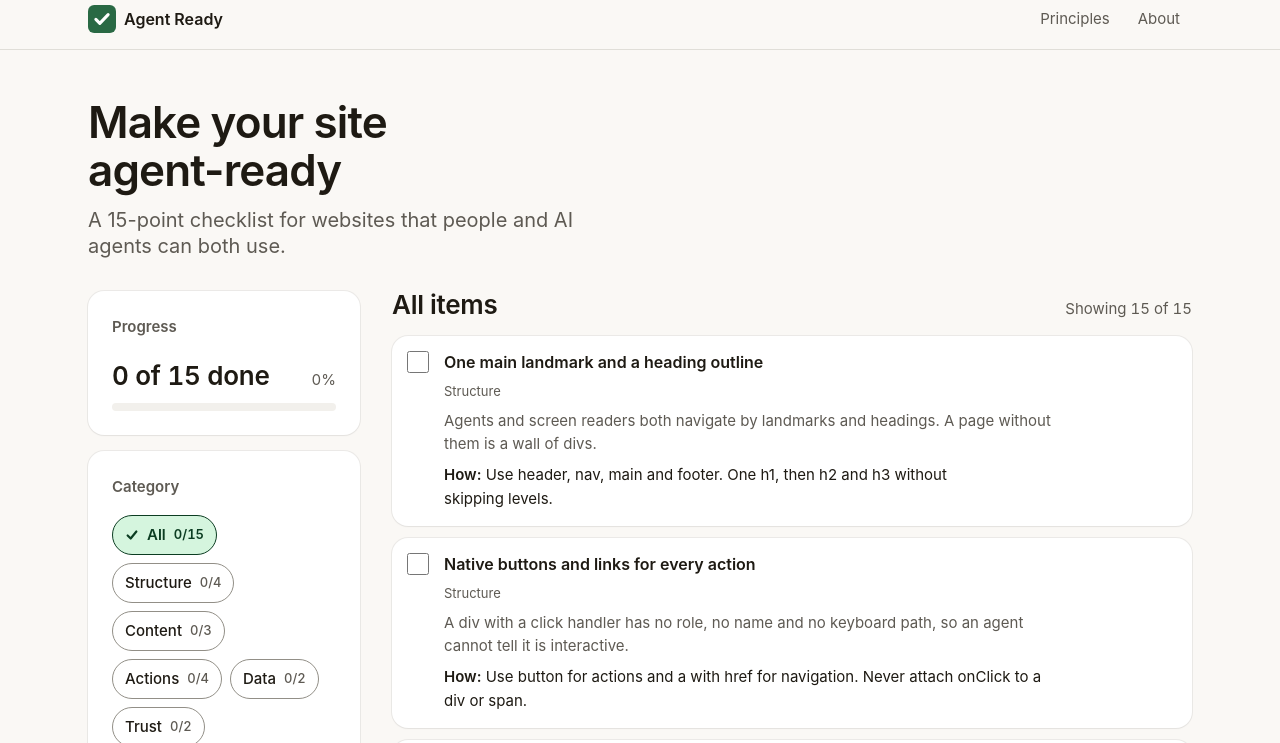
Test case: App › asks before clearing progress, then clears
What coordinates should you click on to do the following:
click the checkbox labelled "One main landmark and a heading outline"
I would click on:
 (418, 362)
Its box is [407,351,429,373].
(page scrolled)
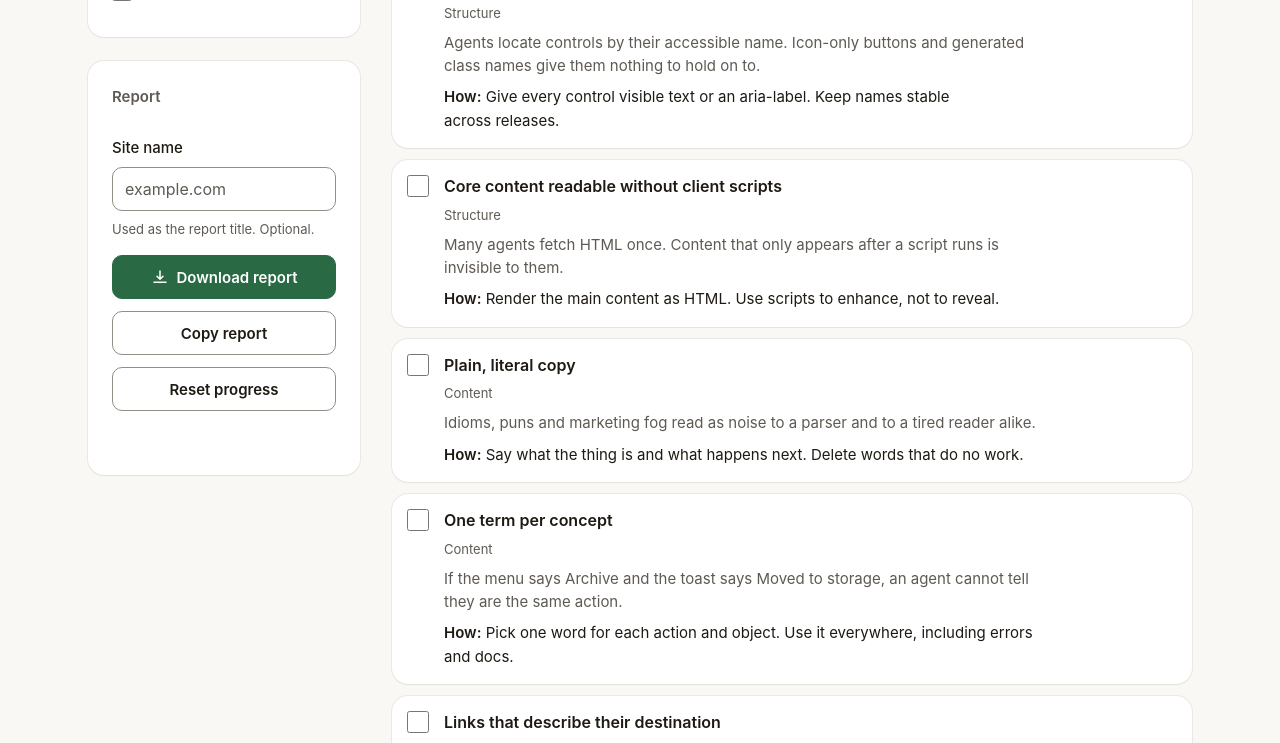
Check: the button "Reset progress" is enabled
What coordinates should you click on to do the following:
click the button "Reset progress"
I would click on:
 (224, 389)
Its box is [112,367,336,411].
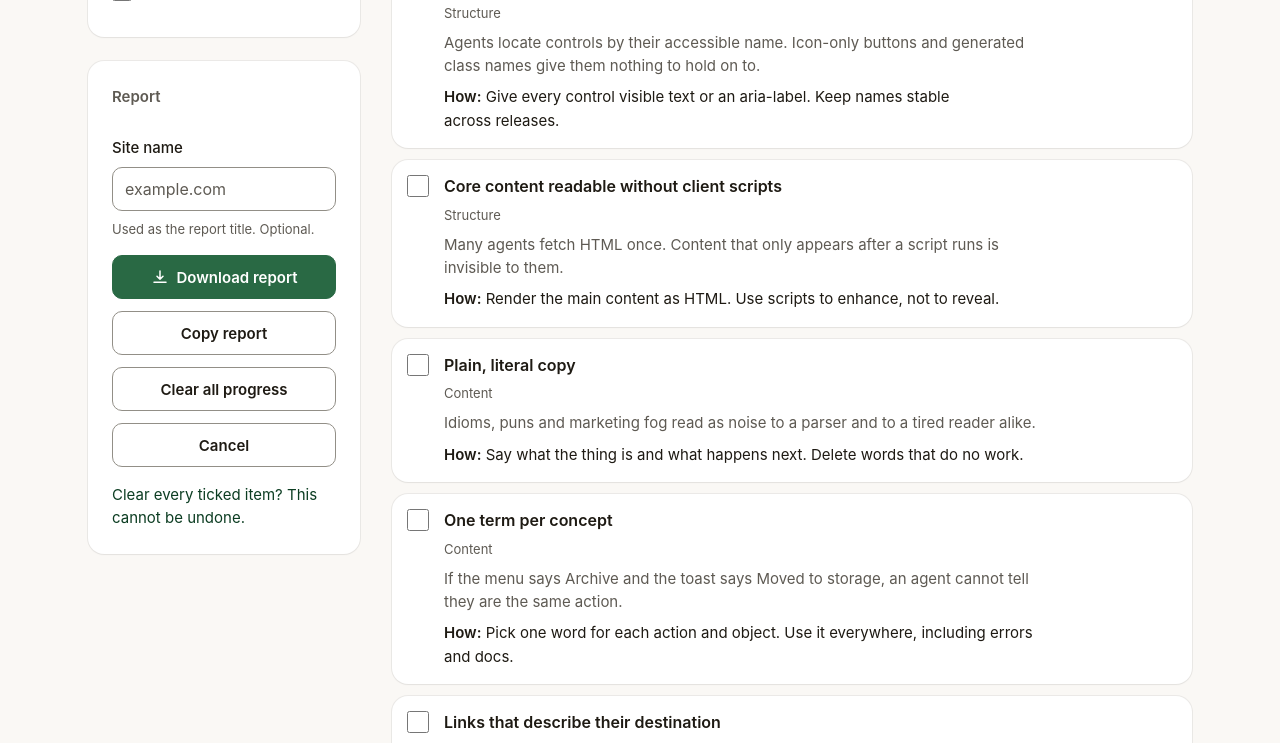
Check: the text "Clear every ticked item? This cannot be undone." is shown, box [112,483,336,530]
What coordinates should you click on to do the following:
click the button "Cancel"
I would click on:
 (224, 445)
Its box is [112,423,336,467].
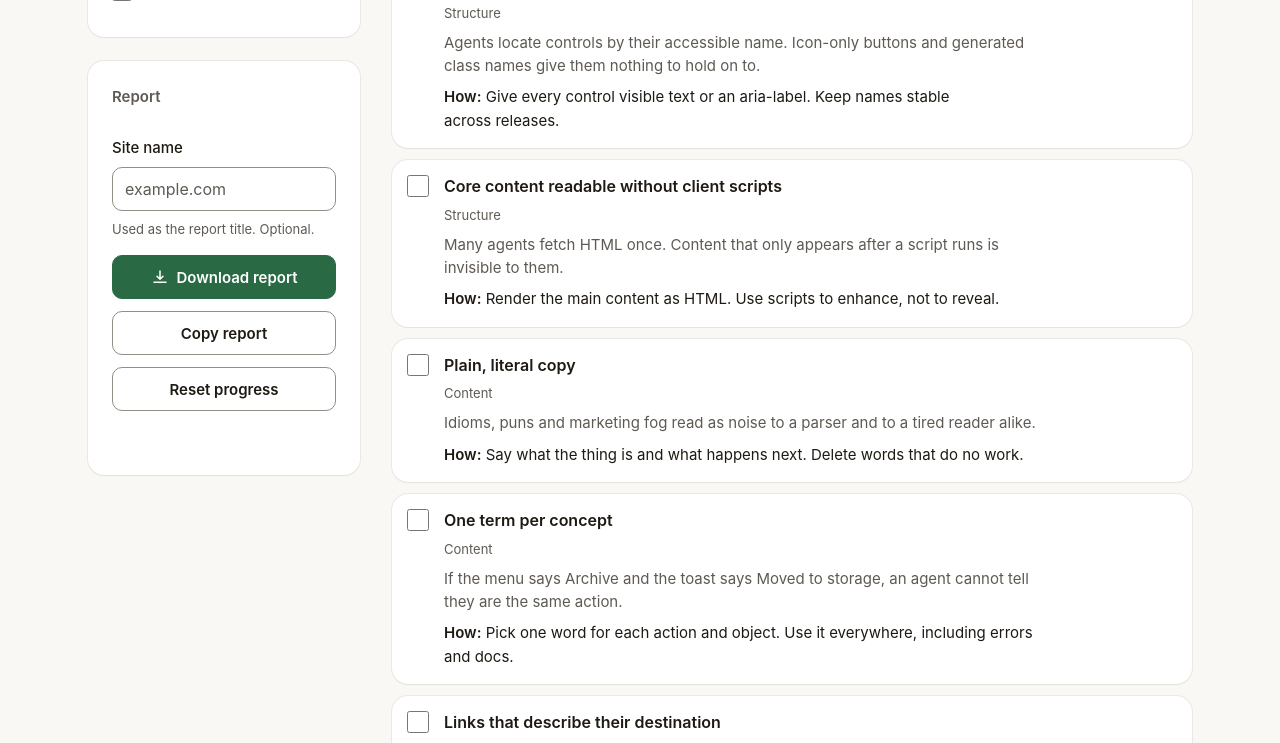
What coordinates should you click on to do the following:
click the button "Reset progress"
I would click on:
 (224, 389)
Its box is [112,367,336,411].
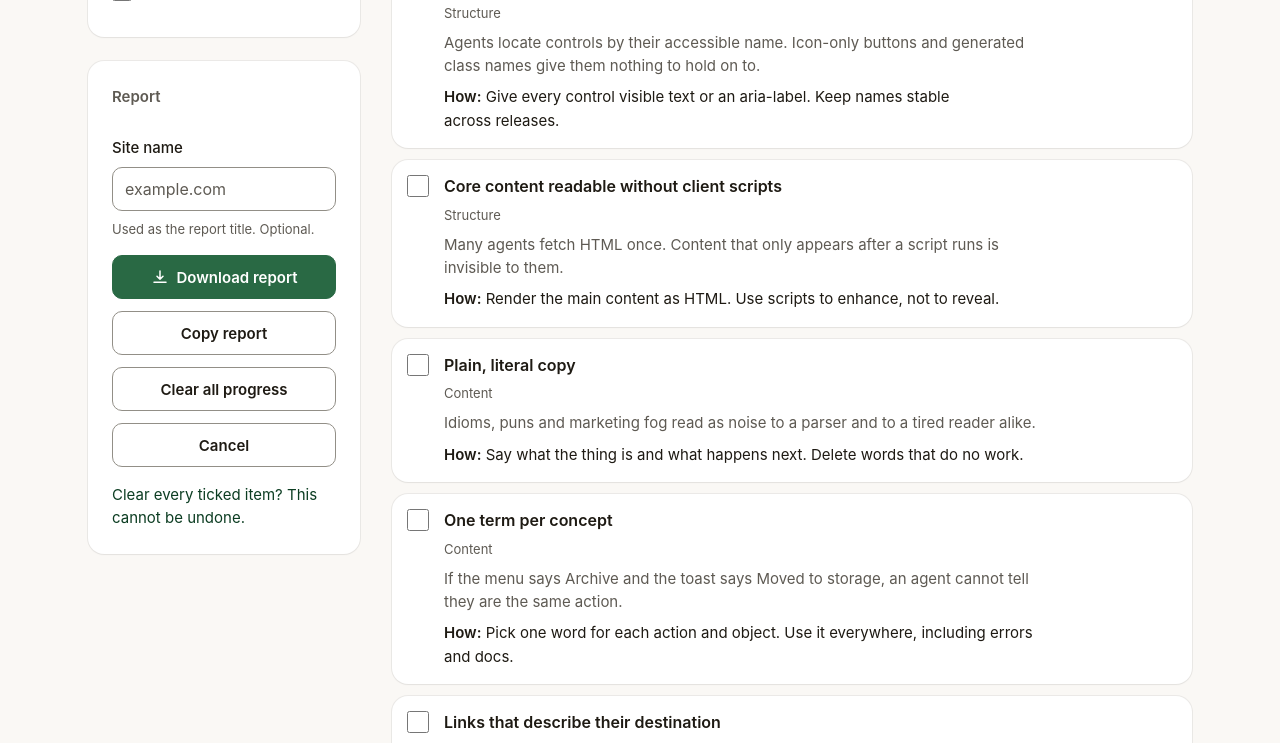
What coordinates should you click on to do the following:
click the button "Clear all progress"
I would click on:
 (224, 389)
Its box is [112,367,336,411].
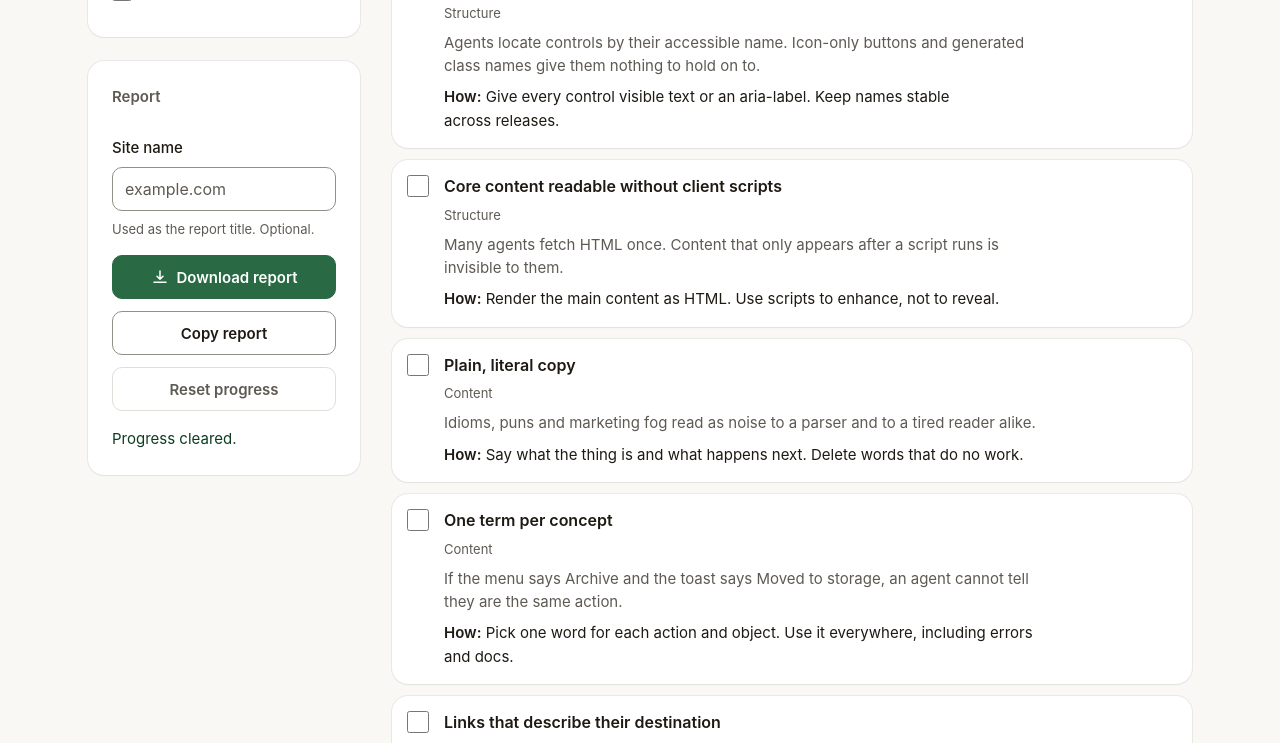
Check: the text "Progress cleared." is shown, box [112,429,236,448]
